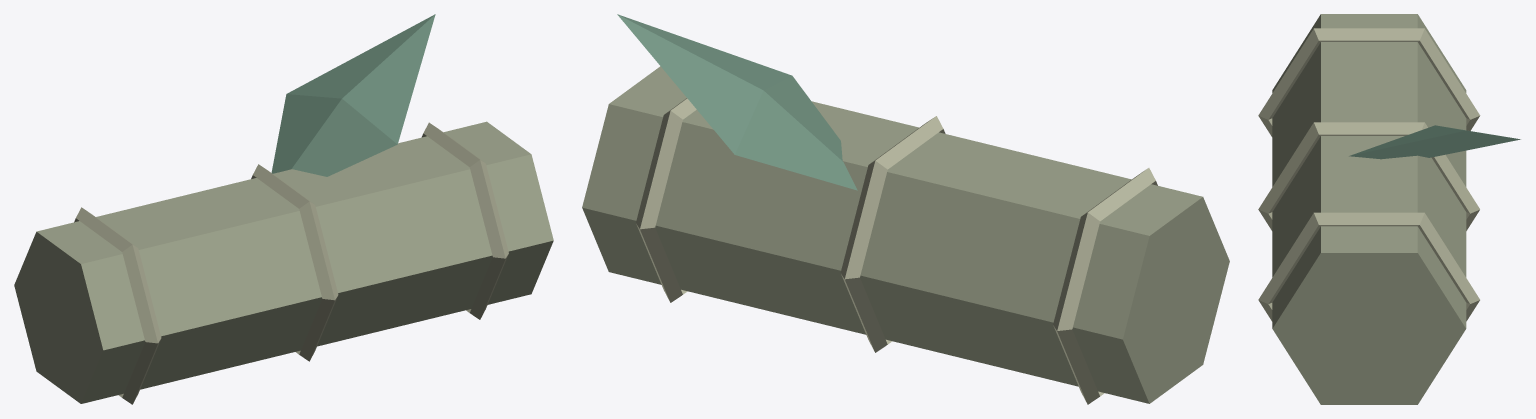
The model's file is map-exclusive-v3__ruins_11.glb.
3 views of the same model, side by side, from view 1: azimuth 30°, elevation 25°; view 2: azimuth 150°, elevation 25°; view 3: azimuth 270°, elevation 25° (orthographic). The views are drawn at different scales.
Parts seen in each view (by area): view 1: ruins_11; view 2: ruins_11; view 3: ruins_11.
Boxes of the visible parts, left/top/right/bottom form: ruins_11: left=14, top=14, right=553, bottom=404; ruins_11: left=582, top=14, right=1229, bottom=404; ruins_11: left=1258, top=14, right=1520, bottom=404.
Size of the model in its own units: 1.4 by 0.7382 by 0.6524.
